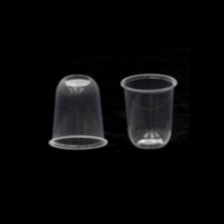glass: (116, 70, 185, 157), (44, 72, 112, 151)
